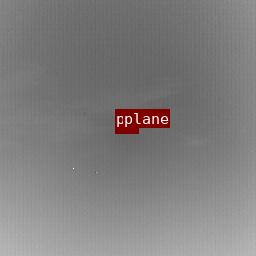plane: (123, 128, 138, 133), (115, 128, 123, 133)
